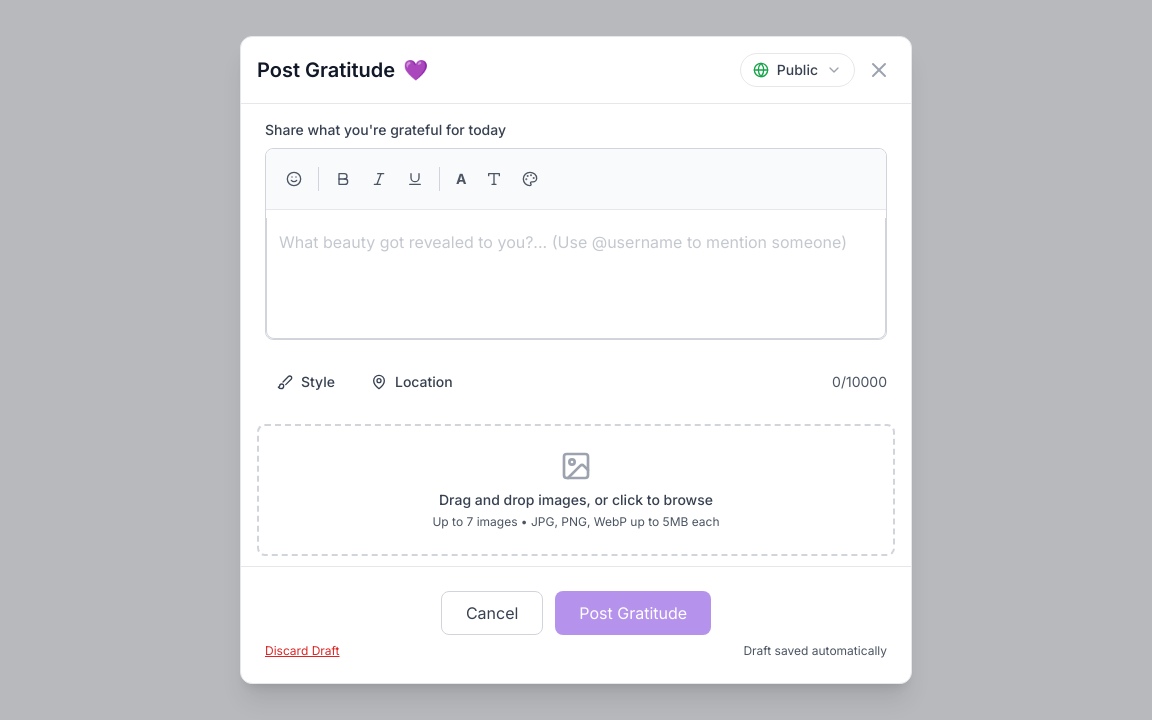
Test: CreatePostModal Character Counter › should accurately count characters with various text manipulations
The image size is (1152, 720).
Expected: the button "Post Gratitude" is shown, [555,591,711,635]
Test typing text
Step 1. Clear the field → x=576, y=278, box [267,218,885,338]
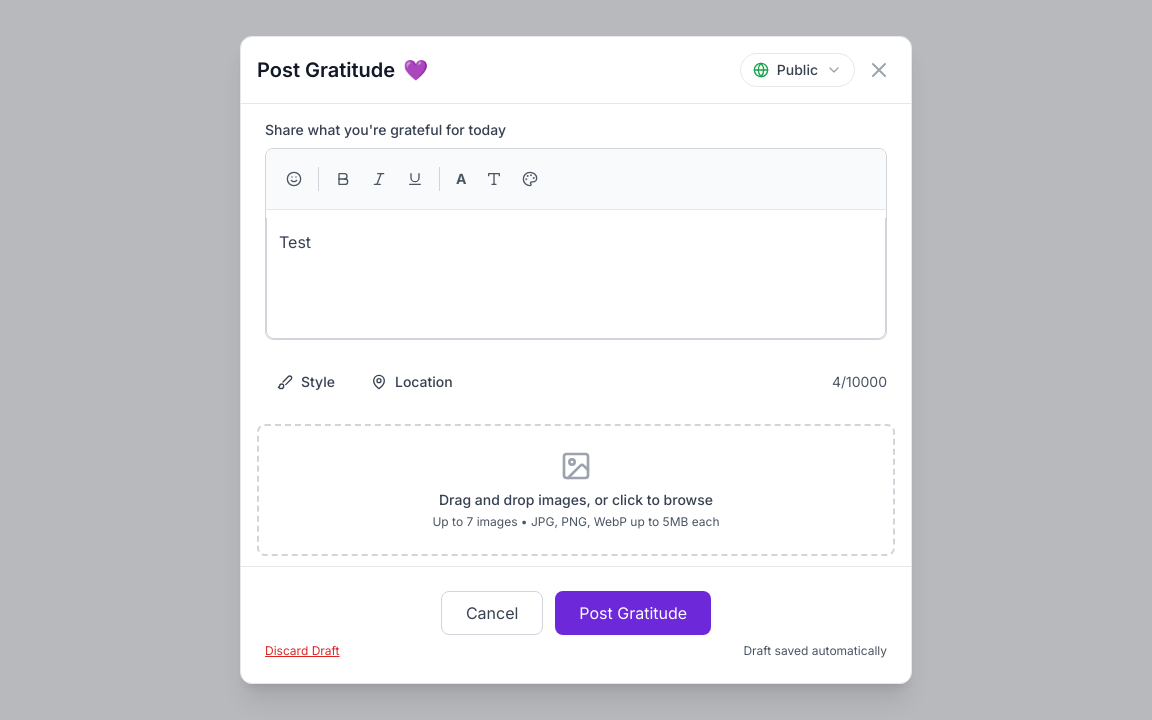
Expected: the text "4/10000" is shown, [832,372,887,392]
Test pasting text (simulate longer content)
Step 2. Clear the field → x=295, y=242, box [279,232,311,252]
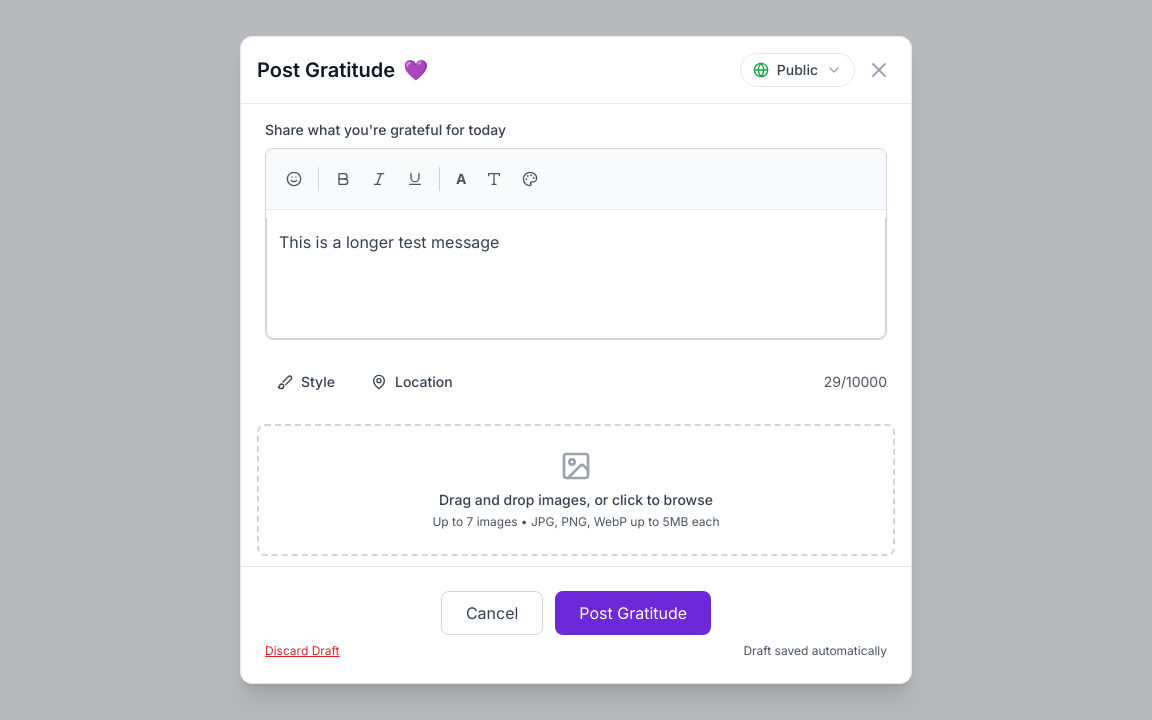
Expected: the text "29/10000" is shown, [824,372,887,392]
Test cutting all text (simulate Ctrl+A, Ctrl+X)
Step 3. Clear the field → x=389, y=242, box [279,232,500,252]
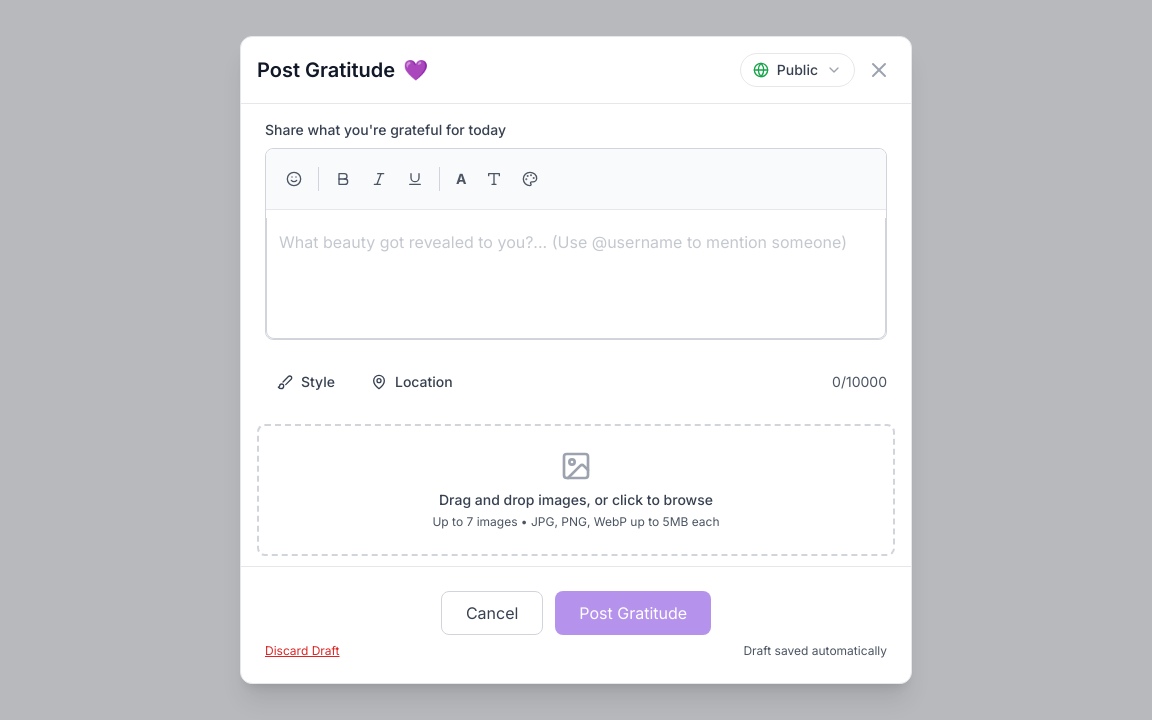
Expected: the text "0/10000" is shown, [832,372,887,392]
